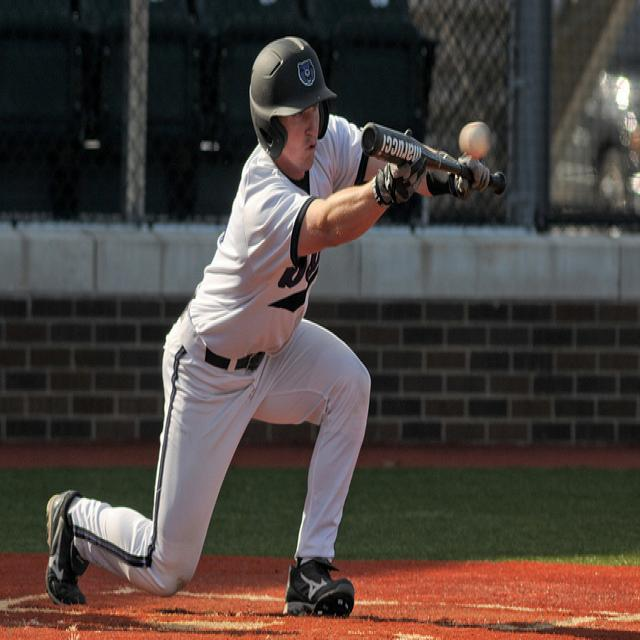Vehicle: (548, 5, 640, 219)
